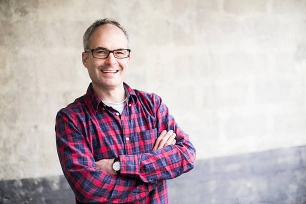male: (83, 25, 129, 87)
